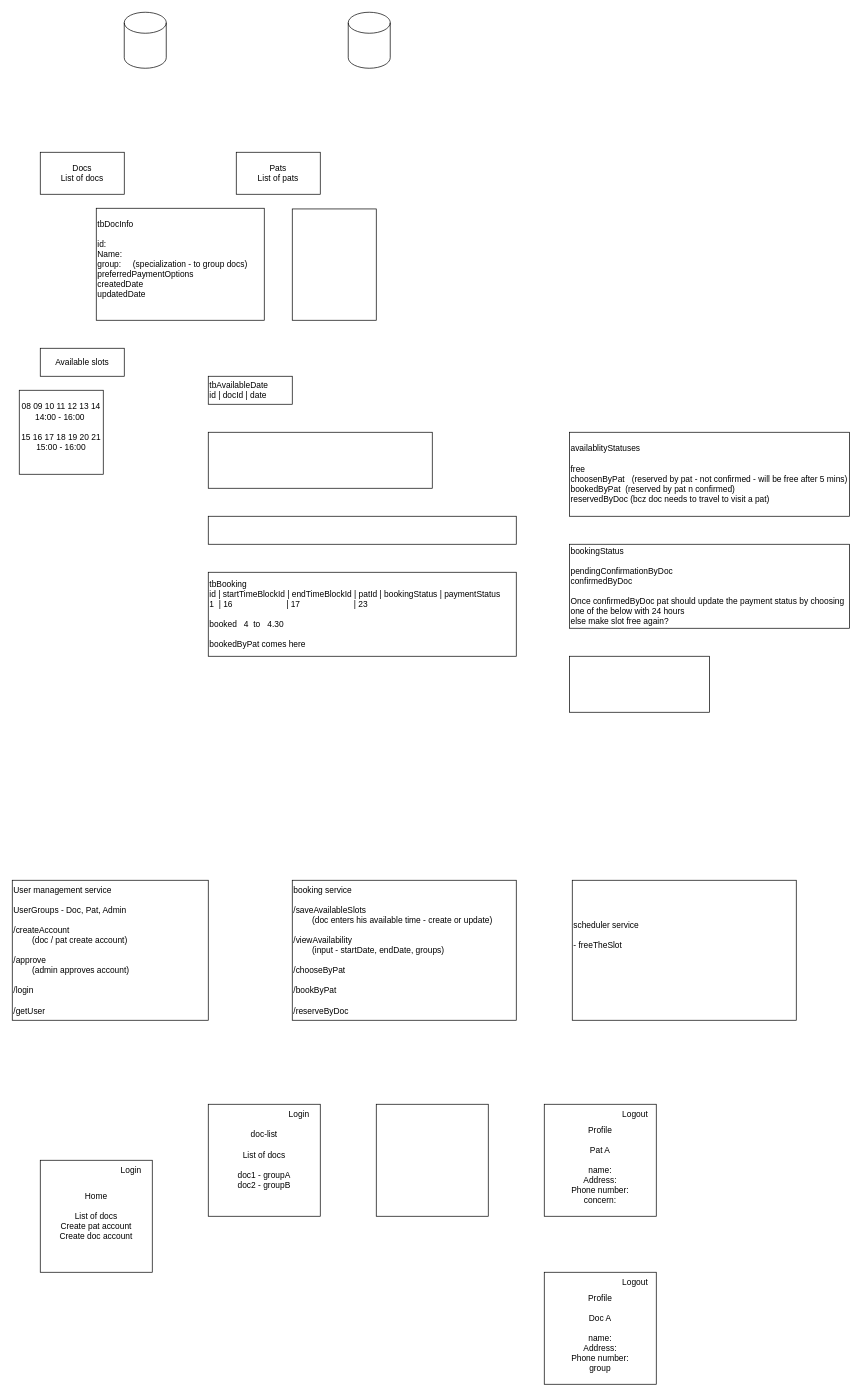
Image size: 862x1397. Some labels were removed from this diagram. The centre of each missing label's shape, as x and y in pixels:
"Login username password" goes at [432,1160].
"paymentStatus paid (paid in advance) payAtVisit" goes at [639,684].
"tbAvailableSlot id | docId | date | timeBlockId | patId | availablityStatus" goes at [320,460].
"tbPatInfo id: Name: address: dob: Concern: createdDate updatedDate" goes at [334,264].
"tbTimeBlock" goes at [362,530].
